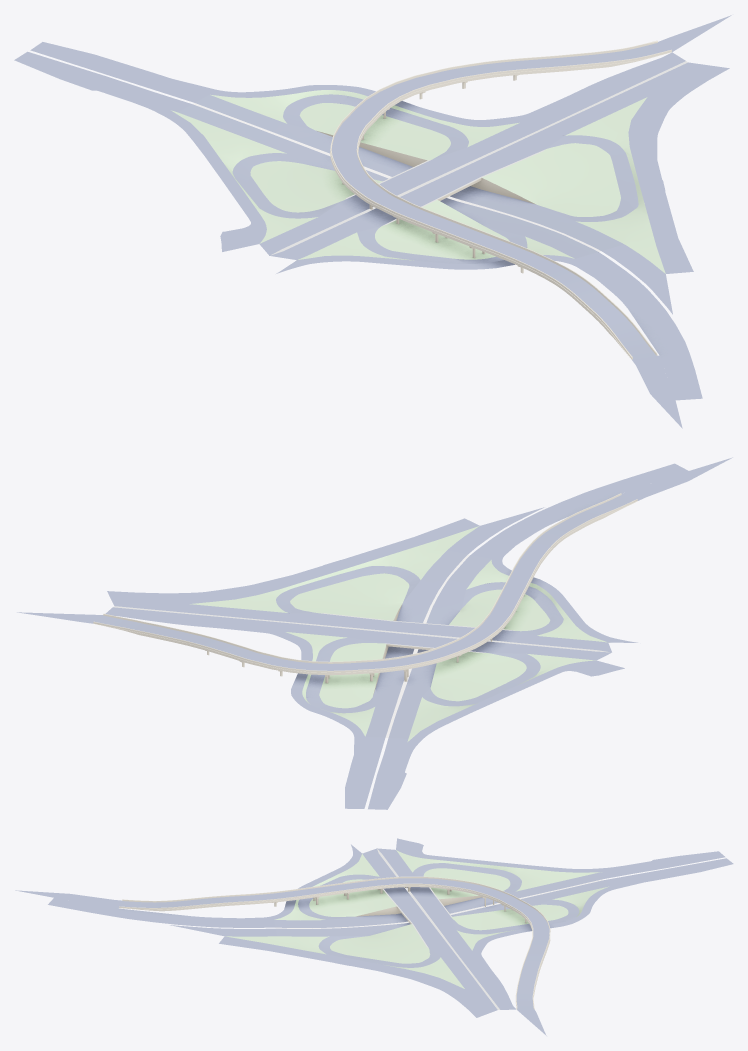
Rendered from Saina-Riskulova.glb.
3 renders of one model, top to bottom at view 1: azimuth 30°, elevation 25°; view 2: azimuth 150°, elevation 25°; view 3: azimuth 270°, elevation 25°, orthographic. The views are drawn at different scales.
Parts seen in each view (by area): view 1: Asphalt, Grass, Concrete, Ground, Concrete.002; view 2: Asphalt, Grass, Concrete, Ground; view 3: Asphalt, Grass, Concrete, Ground, Concrete.002.
Boxes of the visible parts, x1,y1,x2,y2 form: Asphalt: [14, 15, 731, 428]; Grass: [171, 90, 665, 273]; Concrete: [330, 40, 671, 359]; Ground: [193, 61, 687, 255]; Concrete.002: [317, 131, 535, 204]; Asphalt: [17, 457, 732, 809]; Grass: [190, 526, 606, 741]; Concrete: [93, 493, 637, 675]; Ground: [113, 554, 611, 737]; Asphalt: [15, 838, 733, 1035]; Grass: [225, 850, 608, 988]; Concrete: [119, 876, 550, 1009]; Ground: [275, 849, 603, 1009]; Concrete.002: [356, 895, 481, 923].
Bounding box in the file's own units: 384 × 15.2 × 590.
5 materials, 3 textured.
